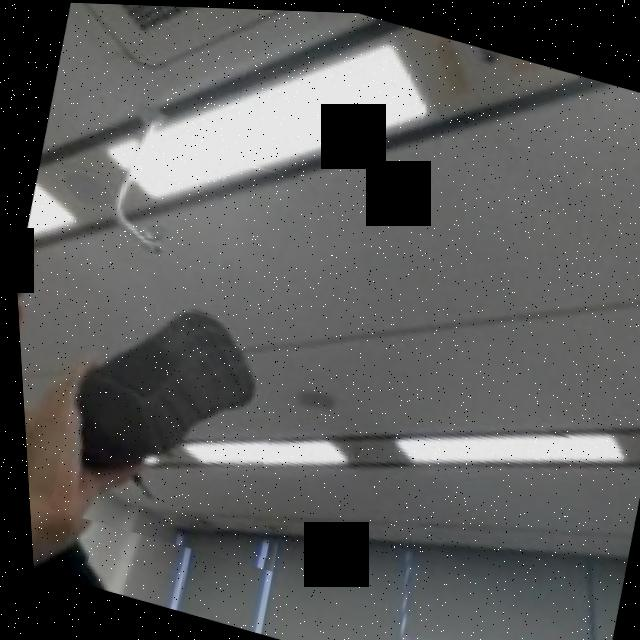shoe: (31, 245, 342, 575)
